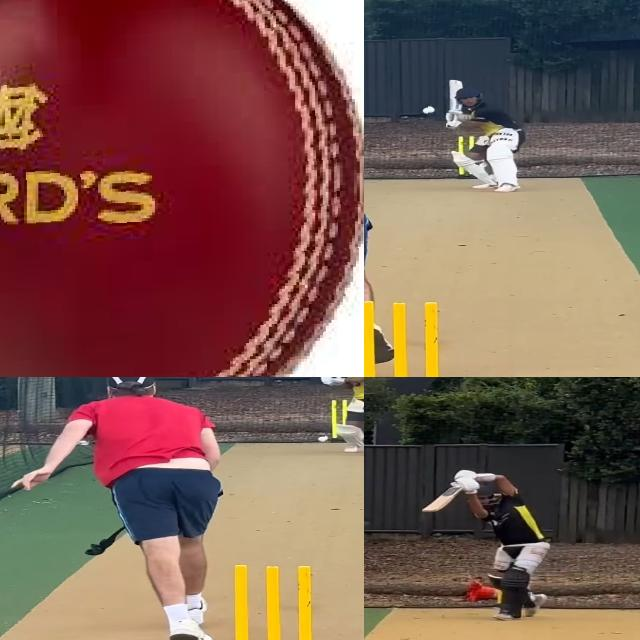Cricket ball: (0, 0, 364, 377), (420, 106, 437, 116), (317, 436, 331, 444)
Stumps: (221, 563, 330, 640), (364, 300, 455, 377)
